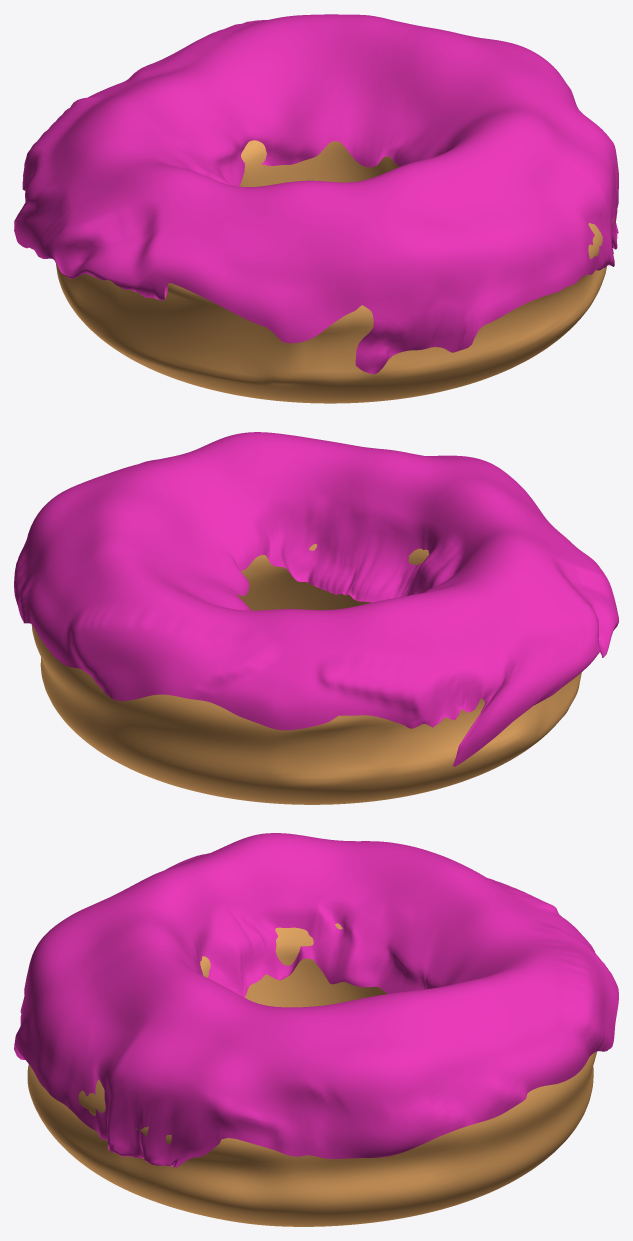
Rendered from Donut.glb.
3 views of the same model, one above another, from view 1: azimuth 30°, elevation 25°; view 2: azimuth 150°, elevation 25°; view 3: azimuth 270°, elevation 25° (orthographic). The views are drawn at different scales.
Parts seen in each view (by area): view 1: Icing, Donut; view 2: Icing, Donut; view 3: Icing, Donut.
Part boxes in pixels (<box>): Icing: <box>14,14,618,374</box>; Donut: <box>56,140,613,403</box>; Icing: <box>14,432,618,766</box>; Donut: <box>31,544,581,804</box>; Icing: <box>14,833,618,1167</box>; Donut: <box>27,923,596,1226</box>.
Size of what is drawn, in the model's own units: 0.1608 by 0.0599 by 0.1538.
